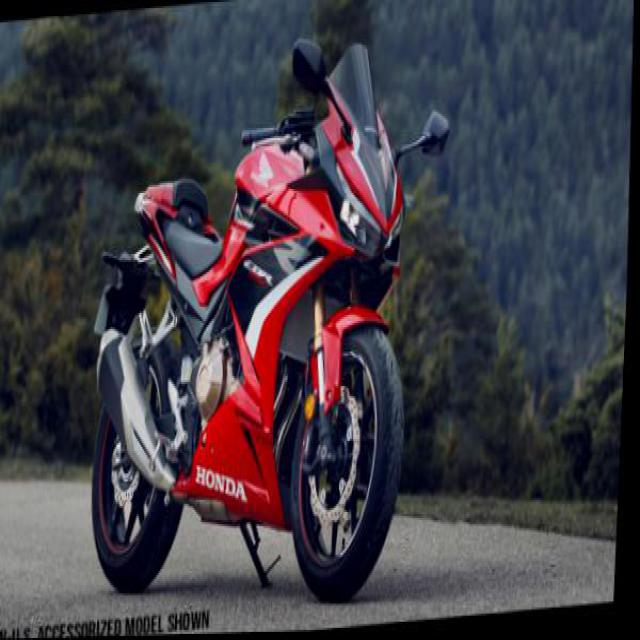CBR500R: (81, 28, 427, 626)
